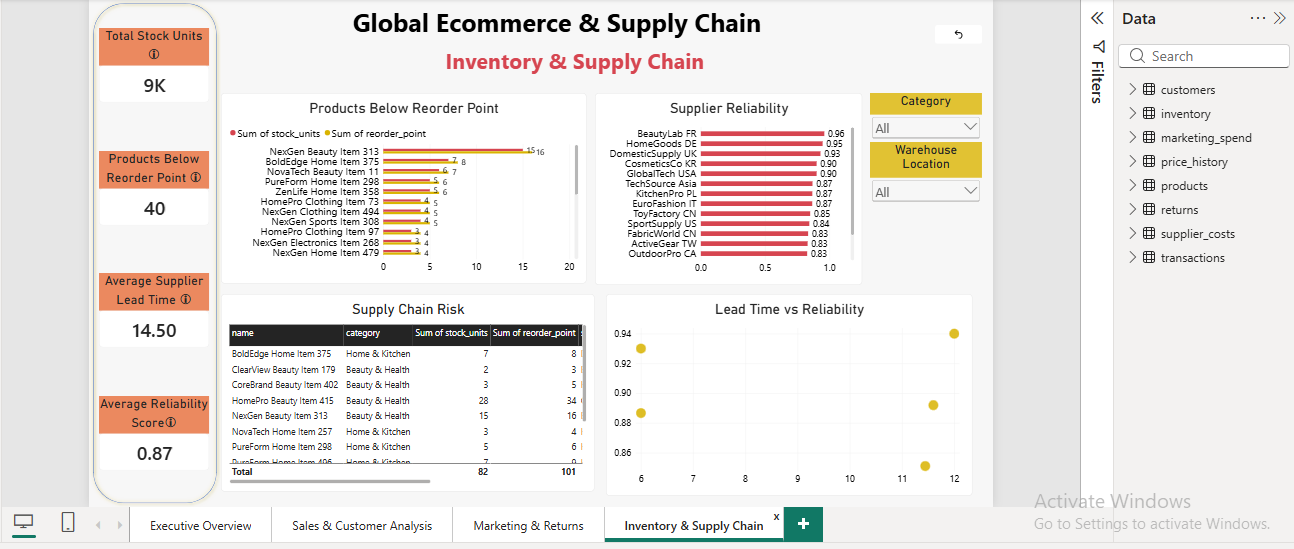

This screenshot's page, from the dashboard's own definition file:
{"tool":"powerbi","page":{"name":"Inventory & Supply Chain","canvas":[1920,1080],"ordinal":3},"visuals":[{"type":"shape","box":[0,0,280.4,1080.9],"z":0},{"type":"shape","box":[545.8,0,896.9,96.3],"z":1000},{"type":"shape","title":"Inventory & Supply Chain","box":[751.7,96.6,560.5,68.7],"z":2000},{"type":"cardVisual","title":"Total Stock Units 🛈","fields":{"Data":["inventory.Total Stocks Units"]},"box":[21.5,62.3,234.1,158],"z":3000},{"type":"cardVisual","title":"Products Below Reorder Point 🛈","fields":{"Data":["inventory.Products Below Reorder"]},"box":[21.4,322.6,234.1,158],"z":4000},{"type":"cardVisual","title":"Average Supplier Lead Time 🛈","fields":{"Data":["inventory.Avrage supplier lead time"]},"box":[21.4,583,234.1,158],"z":5000},{"type":"cardVisual","title":"Average Reliability Score🛈","fields":{"Data":["supplier_costs.Average Reliability Score"]},"box":[21.4,843.3,234.1,158],"z":6000},{"type":"clusteredBarChart","title":"Products Below Reorder Point","fields":{"Category":["products.name"],"Y":["Sum(inventory.stock_units)","Sum(inventory.reorder_point)"]},"box":[281,199.5,776.6,405.5],"z":7000},{"type":"clusteredBarChart","title":"Supplier Reliability","fields":{"Category":["supplier_costs.supplier_name"],"Y":["supplier_costs.Average Reliability Score"]},"box":[1074.8,199.5,568.5,407.6],"z":8000},{"type":"tableEx","title":"Supply Chain Risk","fields":{"Values":["products.name","products.category","Sum(inventory.stock_units)","Sum(inventory.reorder_point)","supplier_costs.supplier_name","Sum(supplier_costs.lead_time_days)","Sum(supplier_costs.reliability_score)"]},"box":[280.4,627.2,794.1,419.5],"z":9000},{"type":"scatterChart","title":"Lead Time vs Reliability","fields":{"X":["Avg(supplier_costs.lead_time_days)"],"Y":["Avg(supplier_costs.reliability_score)"],"Category":["supplier_costs.supplier_name"]},"box":[1098.4,626.4,778.7,429.1],"z":10000},{"type":"slicer","title":"Category","fields":{"Values":["supplier_costs.category"]},"box":[1660.4,199.5,237.6,104.9],"z":11000},{"type":"slicer","title":"Warehouse Location","fields":{"Values":["inventory.warehouse_location"]},"box":[1660.4,304.6,238.1,135.2],"z":12000},{"type":"actionButton","box":[1797.7,55.8,100,40],"z":13000}]}

Visuals, with their boxes on the page's 1920x1080 design canvas (x1, y1, x2, y2). These are canvas units, not pixel positions in the 1294x549 screenshot, which may show the page scaled, cropped or inside an application window:
shape: locate(0, 0, 280, 1081)
shape: locate(546, 0, 1443, 96)
"Inventory & Supply Chain" shape: locate(752, 97, 1312, 165)
"Total Stock Units 🛈" cardVisual: locate(22, 62, 256, 220)
"Products Below Reorder Point 🛈" cardVisual: locate(21, 323, 256, 481)
"Average Supplier Lead Time 🛈" cardVisual: locate(21, 583, 256, 741)
"Average Reliability Score🛈" cardVisual: locate(21, 843, 256, 1001)
"Products Below Reorder Point" clusteredBarChart: locate(281, 200, 1058, 605)
"Supplier Reliability" clusteredBarChart: locate(1075, 200, 1643, 607)
"Supply Chain Risk" tableEx: locate(280, 627, 1074, 1047)
"Lead Time vs Reliability" scatterChart: locate(1098, 626, 1877, 1056)
"Category" slicer: locate(1660, 200, 1898, 304)
"Warehouse Location" slicer: locate(1660, 305, 1898, 440)
actionButton: locate(1798, 56, 1898, 96)
